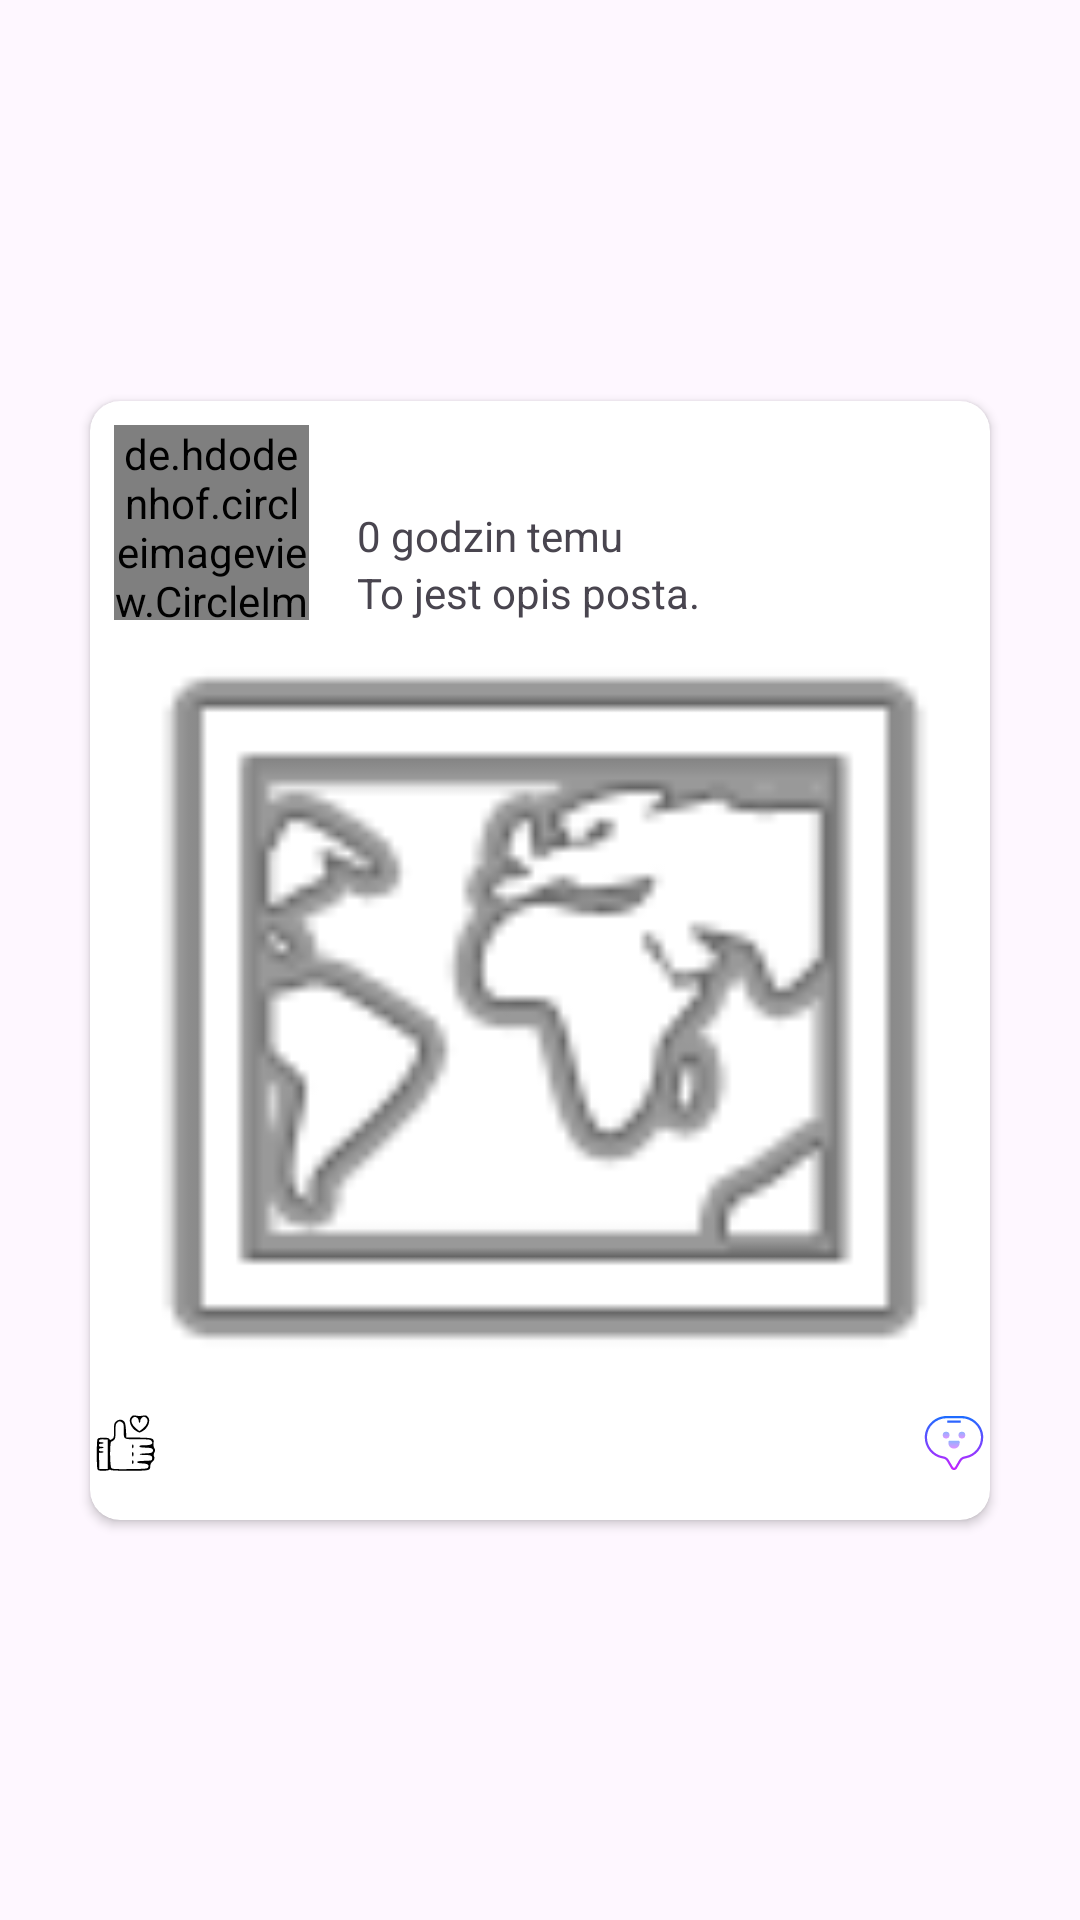

Named icons in this screenshot (1080px x 1920px) and their bounding boxes, (x1, y1, x2, y2):
comment: (924, 1416, 984, 1470)
like: (96, 1415, 155, 1471)
